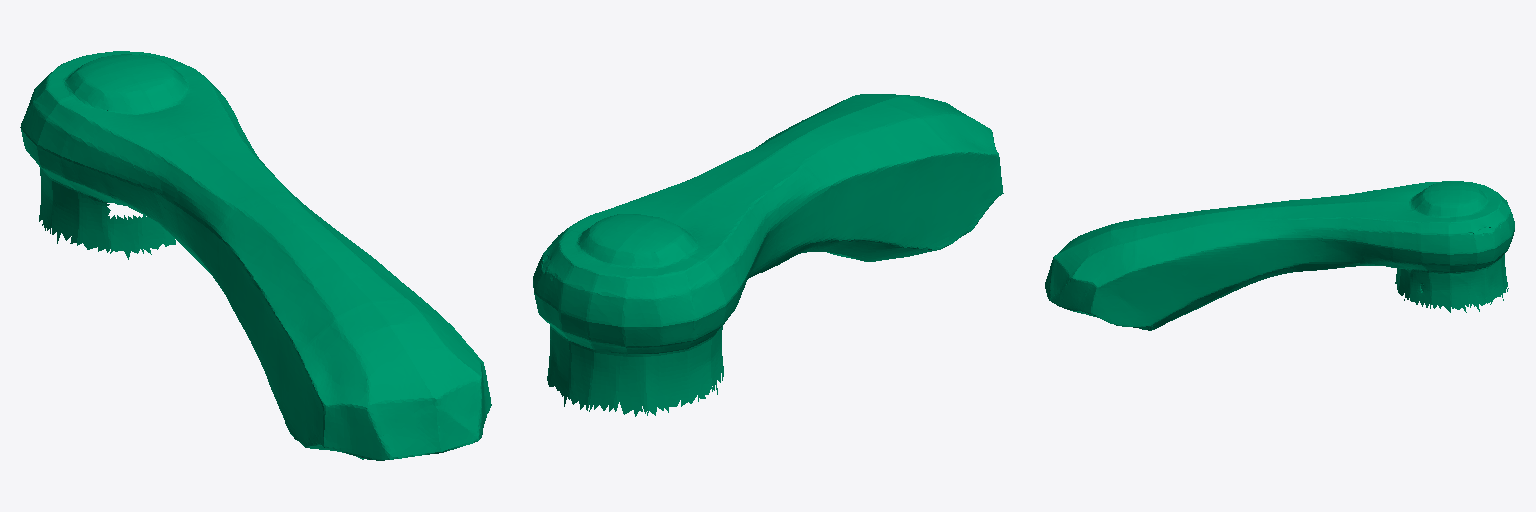
The robot description file, URDF, robot "scene":
<?xml version='1.0' encoding='utf-8'?>
<robot name="scene">
  <link name="l_world">
    <inertial>
      <origin xyz="0 0 0" rpy="0 0 0" />
      <mass value="1.0" />
      <inertia ixx="1.0" ixy="0.0" ixz="0.0" iyy="1.0" iyz="0.0" izz="1.0" />
    </inertial>
  </link>
  <link name="l_1">
    <inertial>
      <origin xyz="0 0 0" rpy="0 0 0" />
      <mass value="1.0" />
      <inertia ixx="1.0" ixy="0.0" ixz="0.0" iyy="1.0" iyz="0.0" izz="1.0" />
    </inertial>
    <visual>
      <geometry>
        <mesh filename="./objs/1/1.obj" scale="1 1 1" />
      </geometry>
      <origin xyz="0 0 0" rpy="0 0 0" />
    </visual>
  </link>
  <joint name="joint_fixed_world1" type="fixed">
    <parent link="l_world" />
    <child link="l_1" />
    <origin xyz="0 0 0" rpy="0 0 0" />
  </joint>
  <link name="l_0">
    <inertial>
      <origin xyz="0 0 0" rpy="0 0 0" />
      <mass value="1.0" />
      <inertia ixx="1.0" ixy="0.0" ixz="0.0" iyy="1.0" iyz="0.0" izz="1.0" />
    </inertial>
    <visual>
      <geometry>
        <mesh filename="./objs/0/0.obj" scale="1 1 1" />
      </geometry>
      <origin xyz="0 0 0" rpy="0 0 0" />
    </visual>
  </link>
  <link name="abstract_1_0">
    <inertial>
      <origin xyz="0 0 0" rpy="0 0 0" />
      <mass value="1.0" />
      <inertia ixx="1.0" ixy="0.0" ixz="0.0" iyy="1.0" iyz="0.0" izz="1.0" />
    </inertial>
  </link>
  <joint name="joint_fixed_abstract_1_0" type="fixed">
    <parent link="abstract_1_0" />
    <child link="l_0" />
    <origin xyz="-0.0015625000000000222 -0.03968749999999999 0.5" rpy="0 0 0" />
  </joint>
  <joint name="joint_revolute_l_1_abstract_1_0" type="revolute">
    <parent link="l_1" />
    <child link="abstract_1_0" />
    <origin xyz="0.0015625000000000222 0.03968749999999999 -0.5" rpy="0 0 0" />
    <axis xyz="0.0 0.0 1.0" />
    <limit lower="0.0" upper="0.9948376736367678" effort="2000.0" velocity="2.0" />
  </joint>
</robot>

--- What the picture shows (computed from the rendered views, not written in the file) ---
Views: 3 orthographic renders of the robot side by side, from view 1: azimuth 30°, elevation 25°; view 2: azimuth 150°, elevation 25°; view 3: azimuth 270°, elevation 25°.
Robot: scene — 4 links, 3 joints (1 revolute, 2 fixed); root link l_world; default pose: all joints at 0.
Links seen in each view (by area): view 1: l_0; view 2: l_0; view 3: l_0.
Boxes of the visible links, <box> form: l_0: <box>20,51,491,460</box>; l_0: <box>533,94,1003,416</box>; l_0: <box>1045,181,1514,330</box>.
Size in the robot's own frame: 0.1737 by 0.625 by 0.1874 metres.
Meshes: 2 distinct files referenced, 1 mesh visuals loaded (1 OBJ); not drawn: 1 (reference not matched to a file when rendering).
